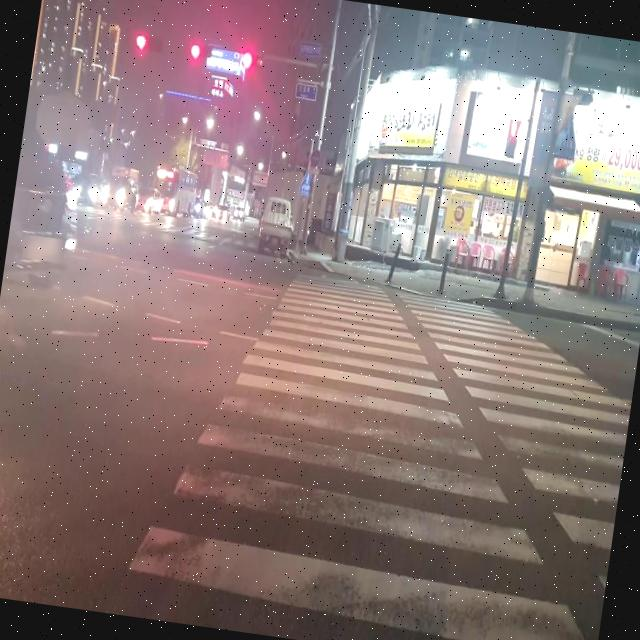crosswalk: (126, 266, 631, 640), (51, 201, 281, 257)
